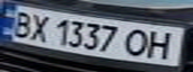1: (48, 16, 72, 47)
3: (81, 20, 103, 52), (66, 18, 87, 50)
7: (100, 24, 121, 54)
B: (6, 9, 39, 38)
H: (142, 28, 181, 61)
O: (121, 26, 154, 57)
X: (24, 11, 54, 43)
